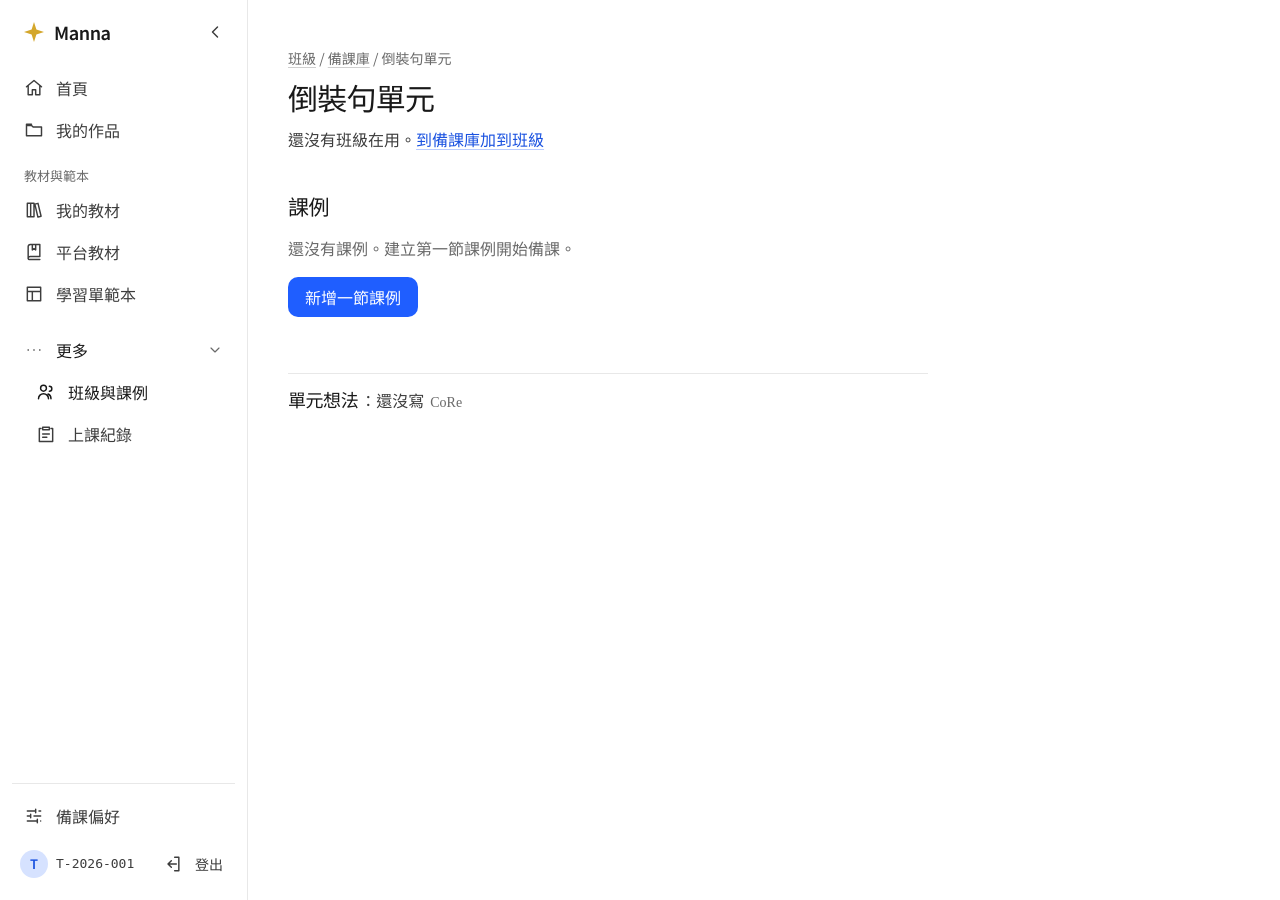
Test: unit page › creates a lesson with a title and a date only
Click the button "新增一節課例" at (353, 297), box x1=288 y1=277 x2=418 y2=317
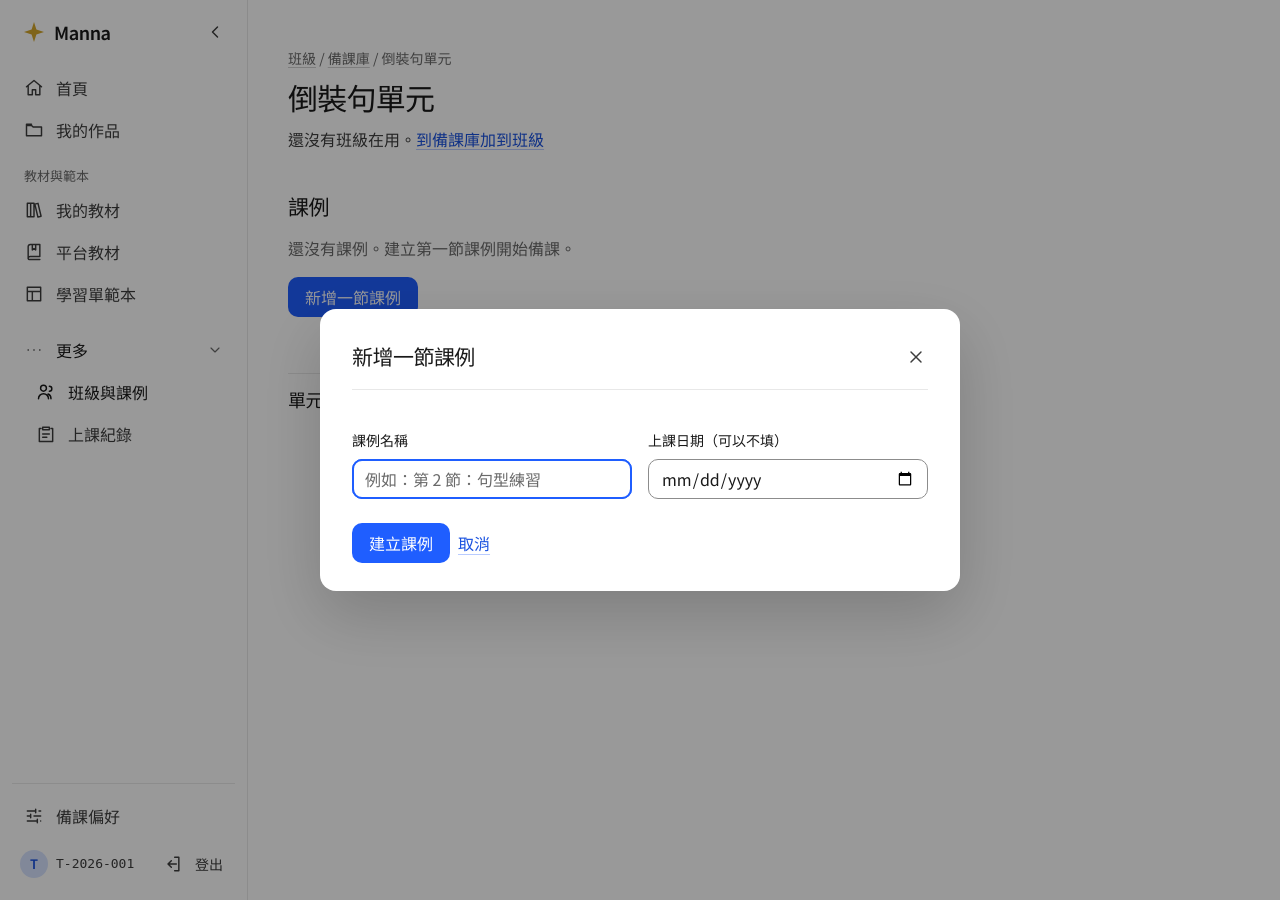
Type "第 1 節" into the field labelled "課例名稱" at (492, 479), box x1=352 y1=459 x2=632 y2=499
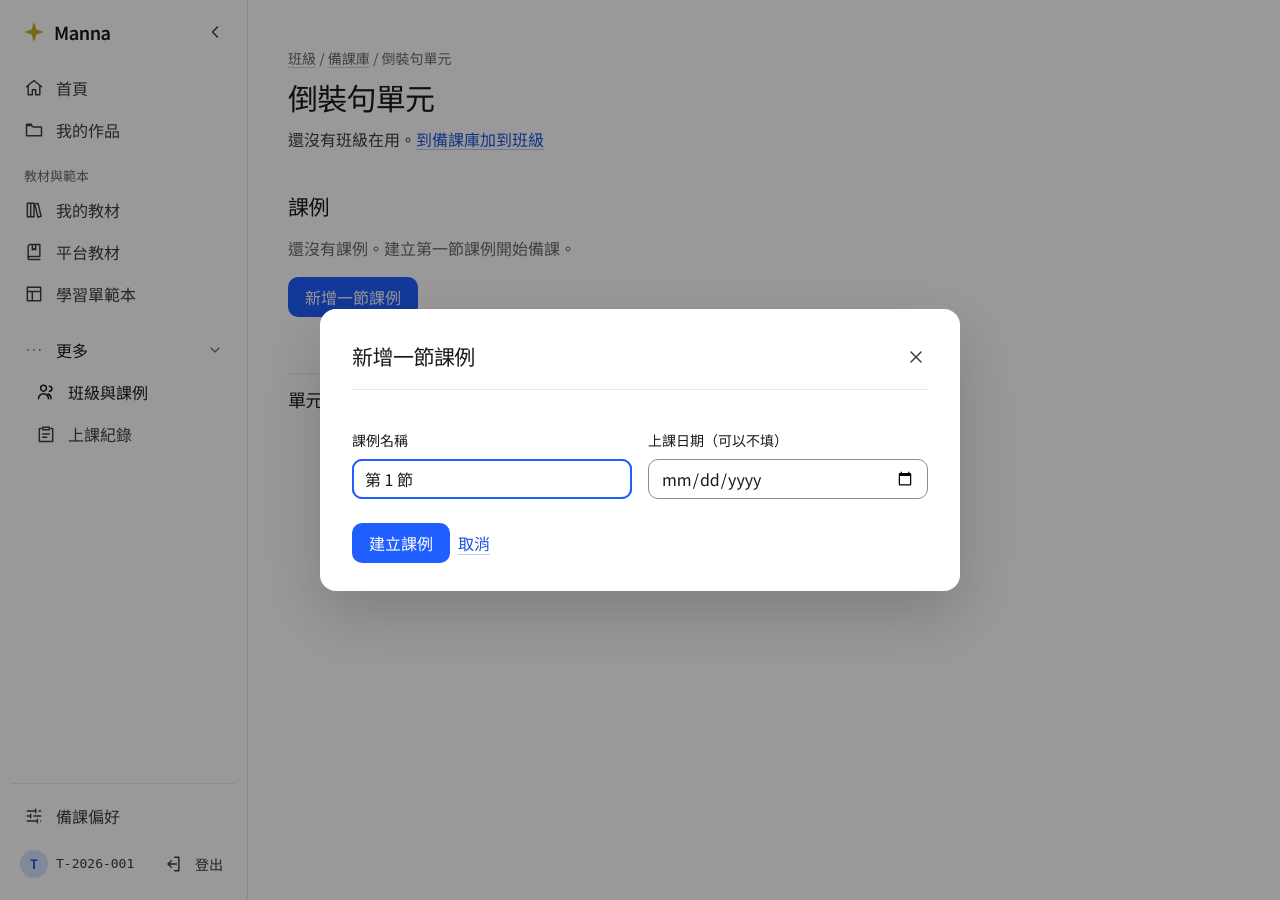
Click the button "建立課例" at (401, 543), box x1=352 y1=523 x2=450 y2=563
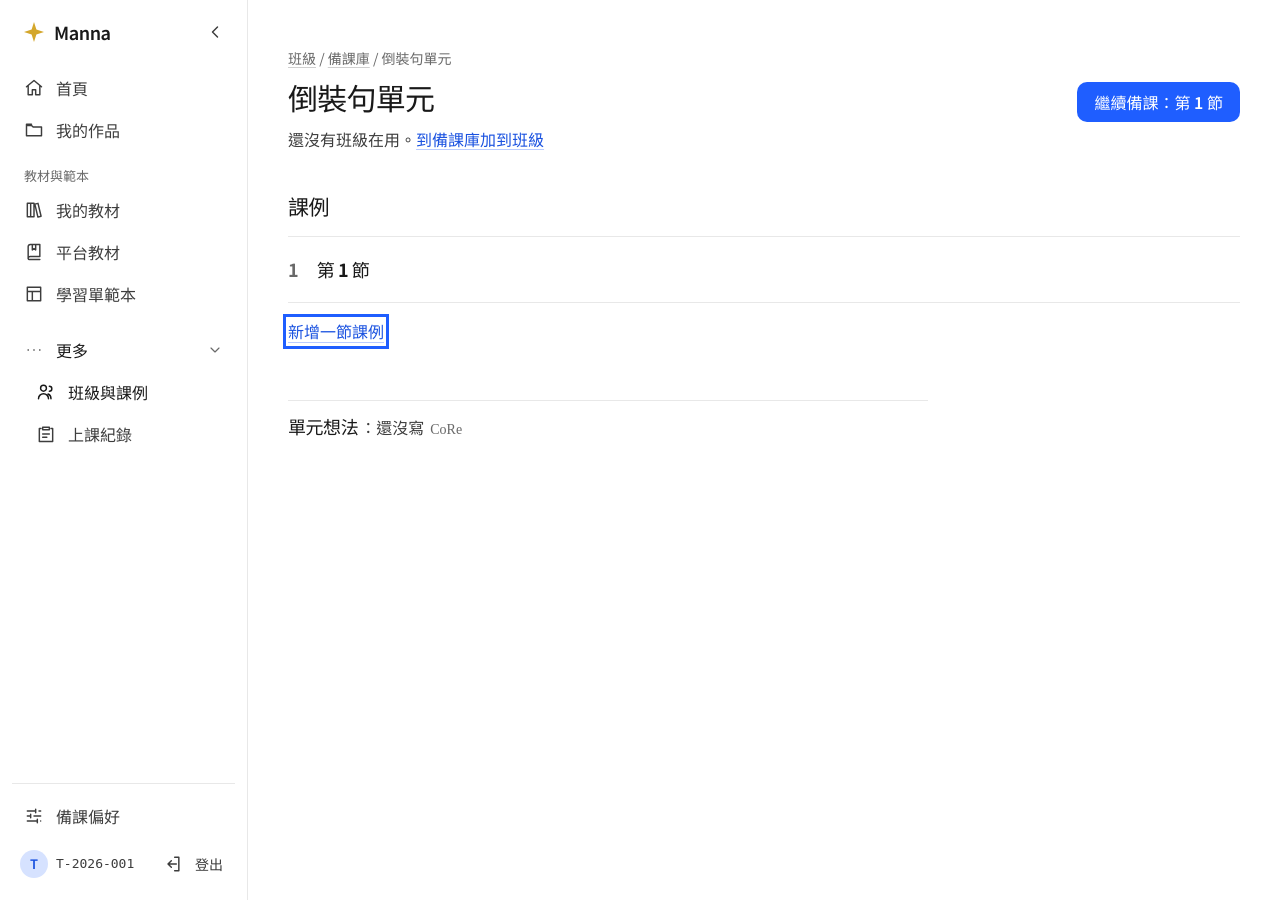
Check: the dialog is gone
